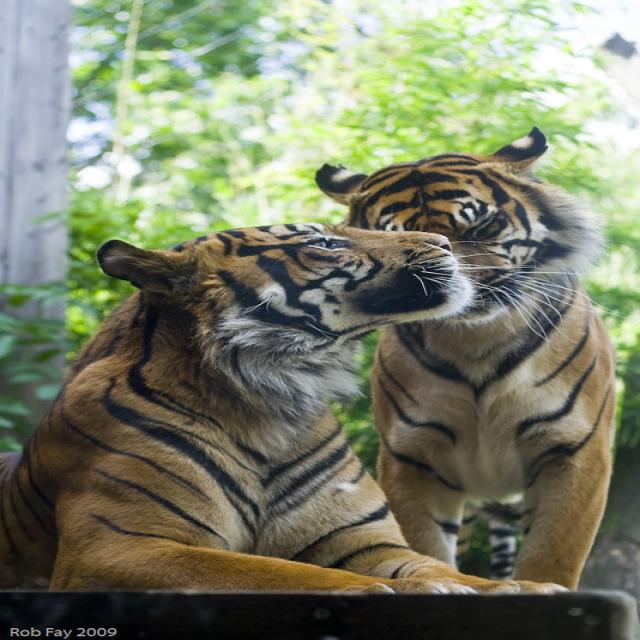Tiger: (1, 224, 519, 591), (312, 124, 612, 596)
